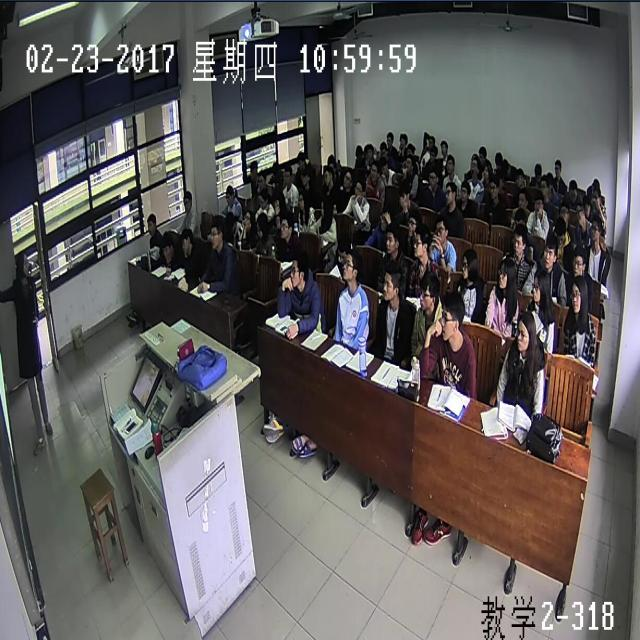person: (441, 292, 464, 339), (419, 272, 439, 314), (515, 312, 534, 353), (569, 276, 586, 315), (532, 268, 550, 304), (412, 223, 430, 258), (343, 249, 362, 282), (291, 252, 307, 289), (461, 248, 477, 282), (543, 233, 557, 270), (386, 220, 400, 256), (572, 243, 586, 277), (498, 259, 512, 291), (338, 234, 352, 265), (210, 220, 223, 252), (512, 224, 525, 255), (280, 211, 294, 239), (379, 202, 392, 232), (554, 219, 566, 250), (320, 196, 333, 223), (15, 251, 28, 278), (408, 210, 420, 238), (436, 218, 448, 245), (181, 228, 192, 255), (256, 210, 266, 239), (514, 208, 526, 232), (558, 200, 568, 228), (162, 235, 172, 262), (518, 188, 529, 212), (445, 182, 456, 206), (590, 214, 600, 240), (274, 192, 284, 218), (428, 167, 439, 190), (342, 167, 353, 190), (354, 177, 364, 200), (400, 185, 410, 207), (242, 208, 252, 230), (470, 155, 479, 178), (298, 188, 307, 211), (323, 167, 333, 187), (568, 180, 577, 202), (145, 214, 154, 236), (182, 190, 191, 212), (534, 190, 542, 214), (460, 179, 469, 200), (258, 188, 267, 209), (224, 186, 233, 207), (539, 172, 547, 195), (576, 202, 584, 224), (489, 175, 497, 197), (406, 140, 414, 162), (257, 171, 266, 190), (544, 170, 552, 190), (501, 157, 509, 177), (446, 154, 454, 174), (283, 164, 291, 184), (581, 196, 589, 215), (514, 168, 522, 187), (370, 160, 378, 179), (327, 153, 335, 172), (301, 167, 308, 188), (495, 151, 503, 169), (226, 211, 234, 229), (380, 156, 387, 176), (482, 164, 490, 181), (429, 144, 437, 161), (379, 140, 387, 157), (354, 142, 362, 158), (592, 188, 599, 206), (534, 163, 541, 181), (478, 145, 485, 163), (406, 153, 412, 173), (441, 139, 448, 155), (399, 132, 406, 148), (386, 129, 393, 145), (297, 152, 304, 168), (249, 160, 256, 176), (554, 158, 560, 176), (428, 133, 434, 150), (367, 144, 372, 159)
